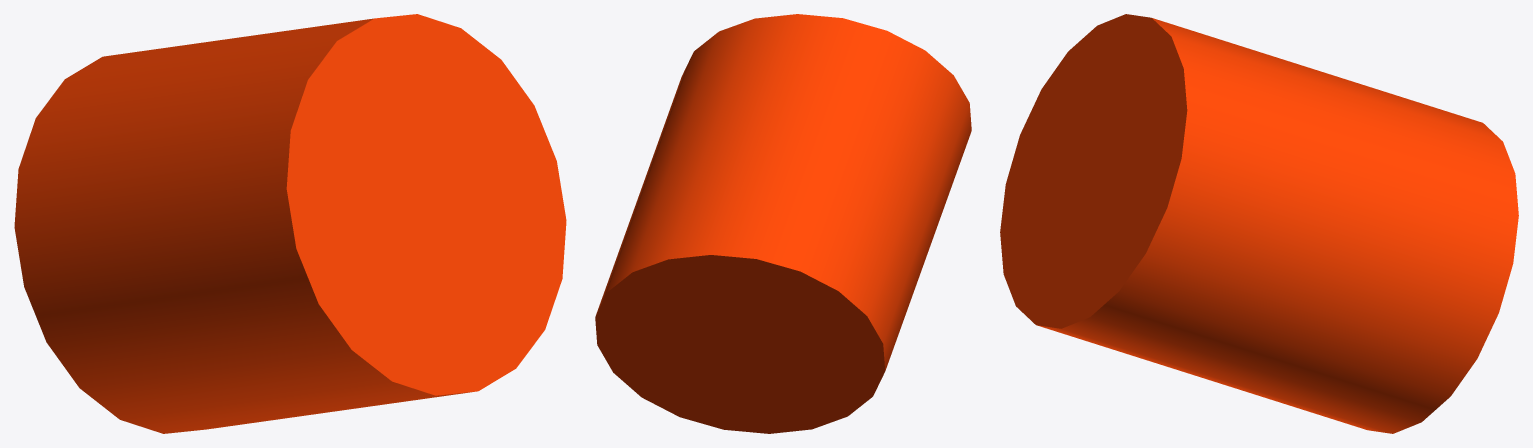
File: Supraorbitario_I.obj
3 views of the same model, side by side, from view 1: azimuth 30°, elevation 25°; view 2: azimuth 150°, elevation 25°; view 3: azimuth 270°, elevation 25° (orthographic). The views are drawn at different scales.
Visible parts, largest first — view 1: polySurface4; view 2: polySurface4; view 3: polySurface4.
Part boxes in pixels (x1,y1,x2,y2): polySurface4: (14,14,566,433); polySurface4: (595,14,971,433); polySurface4: (1000,14,1518,433).
Bounding box in the file's own units: 0.0329 × 0.037 × 0.0432.
